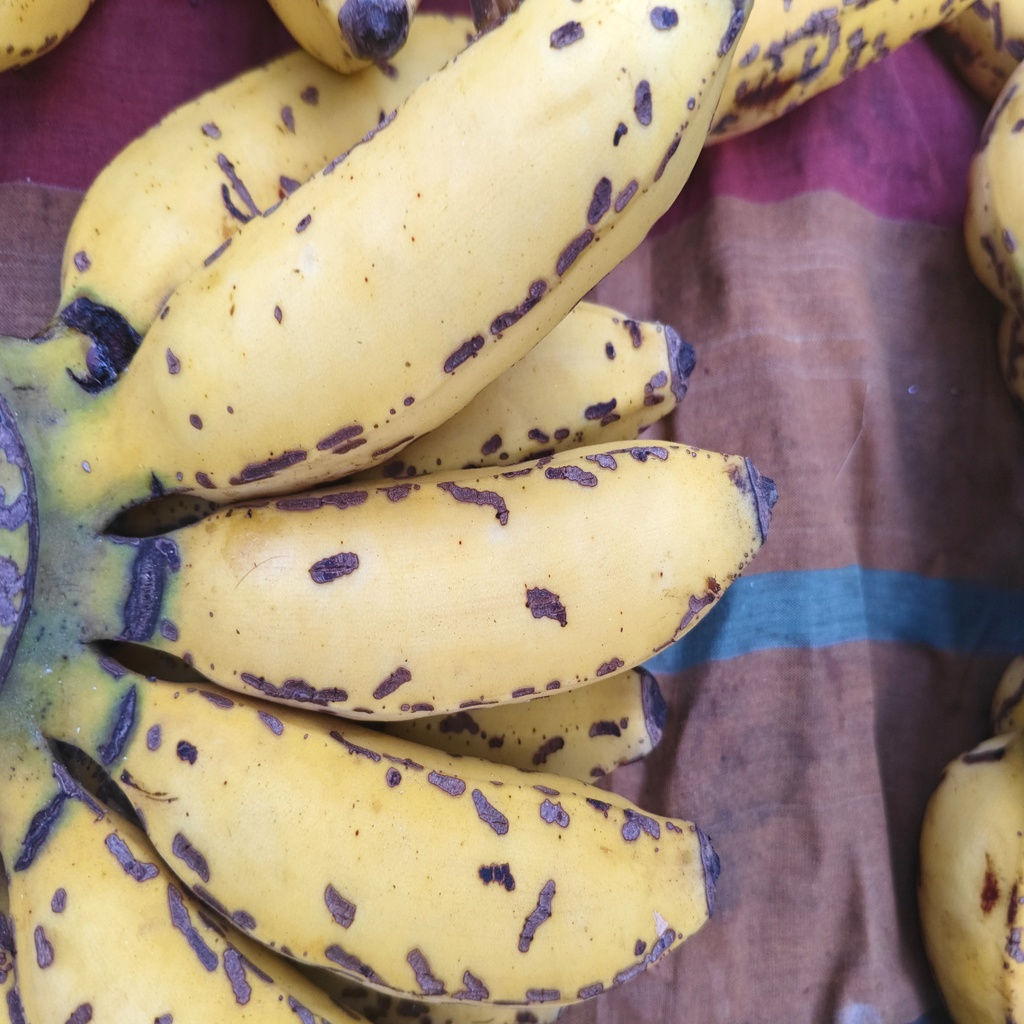unhealthy: (128, 1, 751, 502), (116, 679, 735, 1004), (125, 439, 766, 719)
